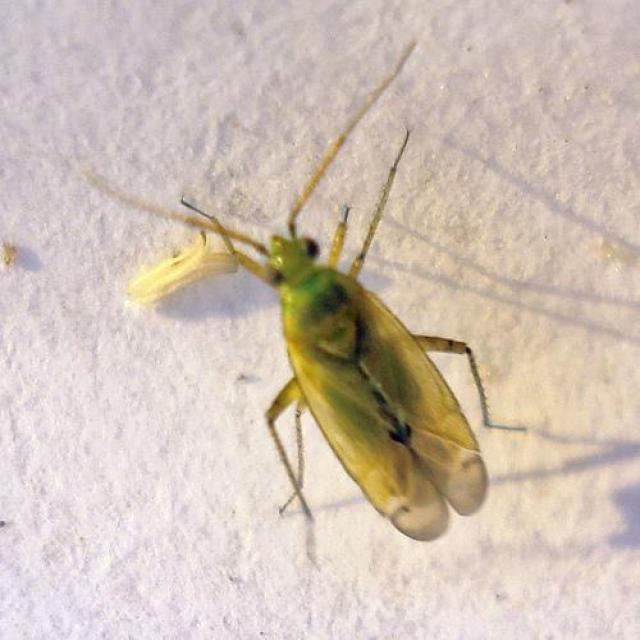Miridae-Adult-: (136, 72, 516, 548)
